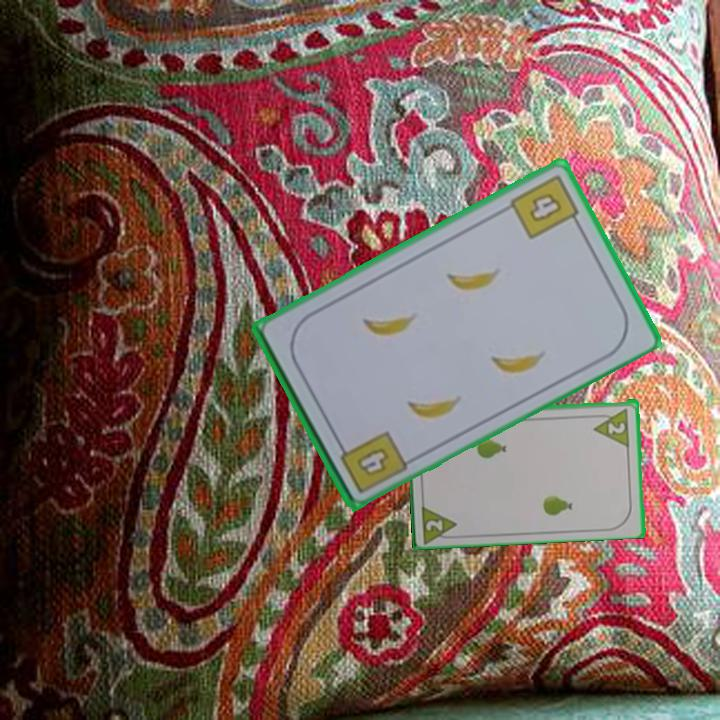2p: (418, 500, 461, 544), (590, 404, 632, 448)
4b: (506, 170, 584, 242), (333, 426, 410, 496)
